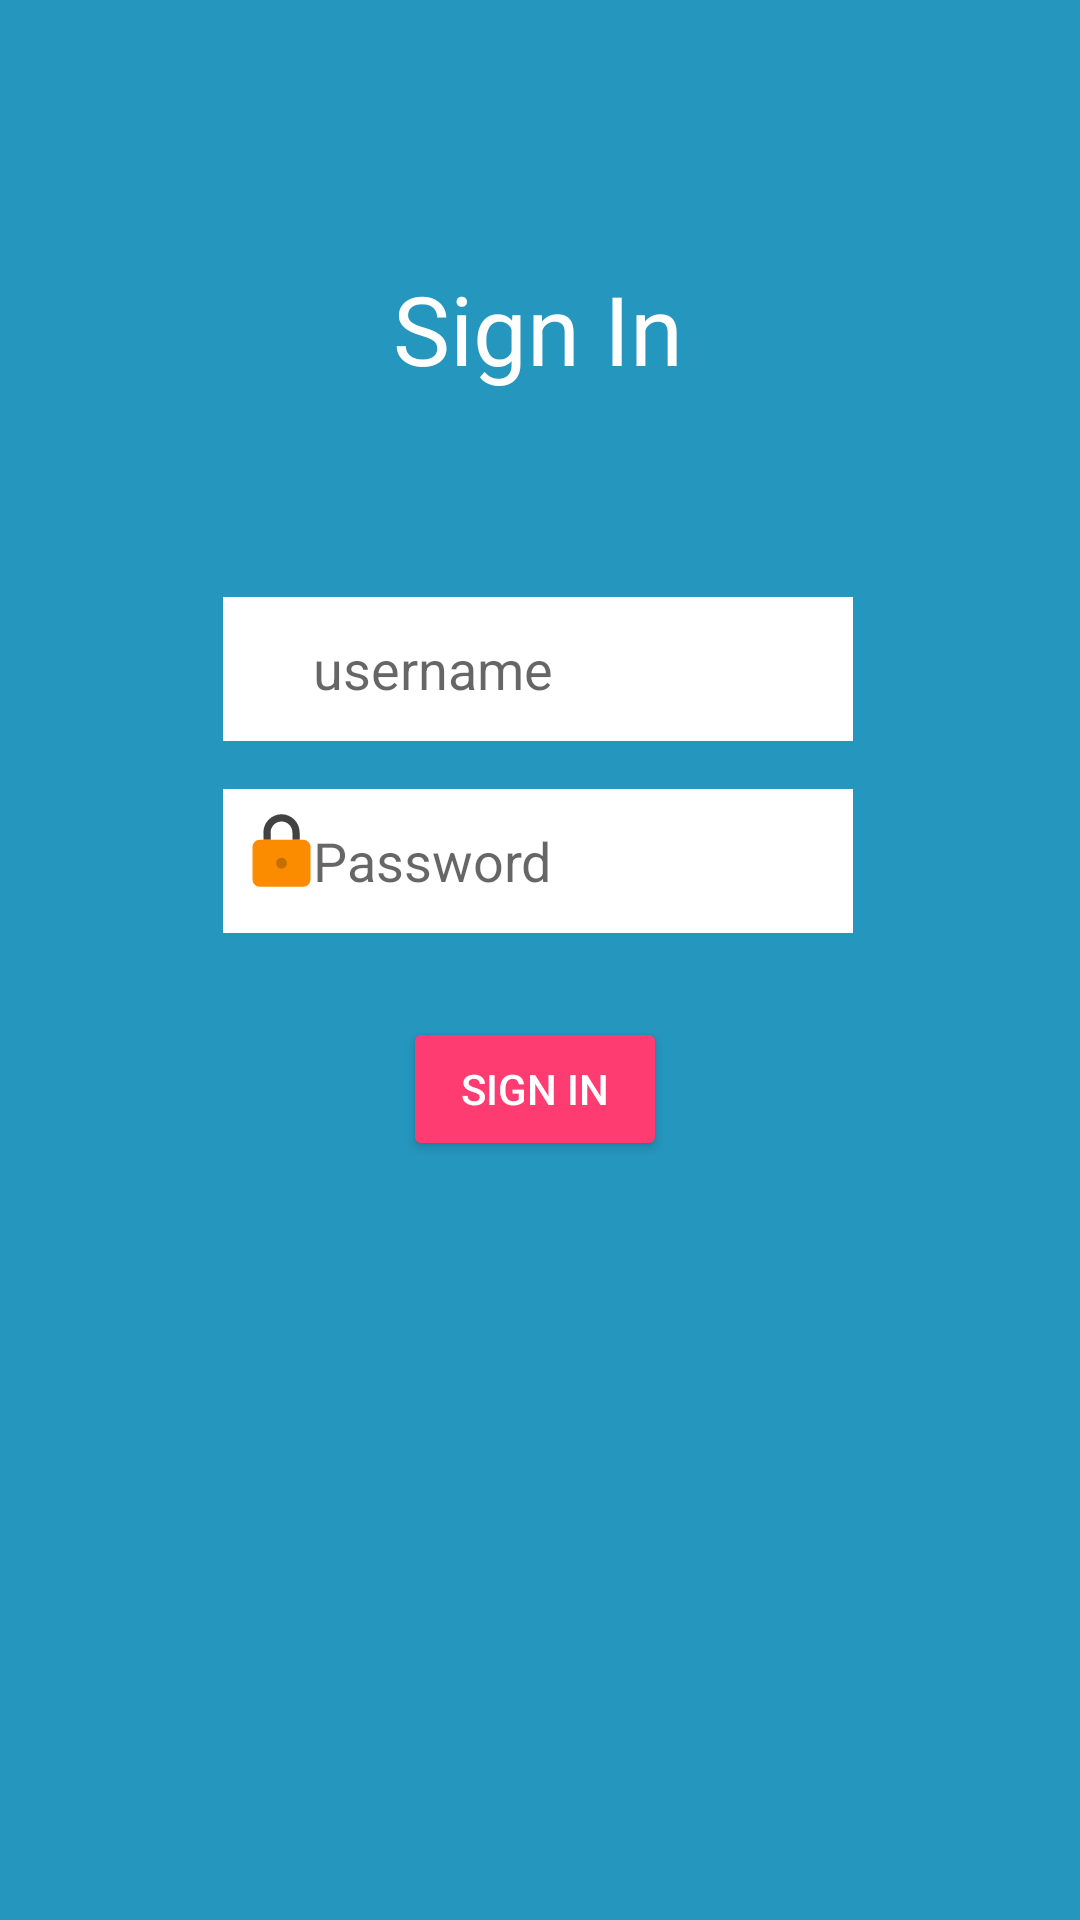

Icon click points for this 1080 x 1920 phone screenshot, format (x,y):
lock: (281,850)
